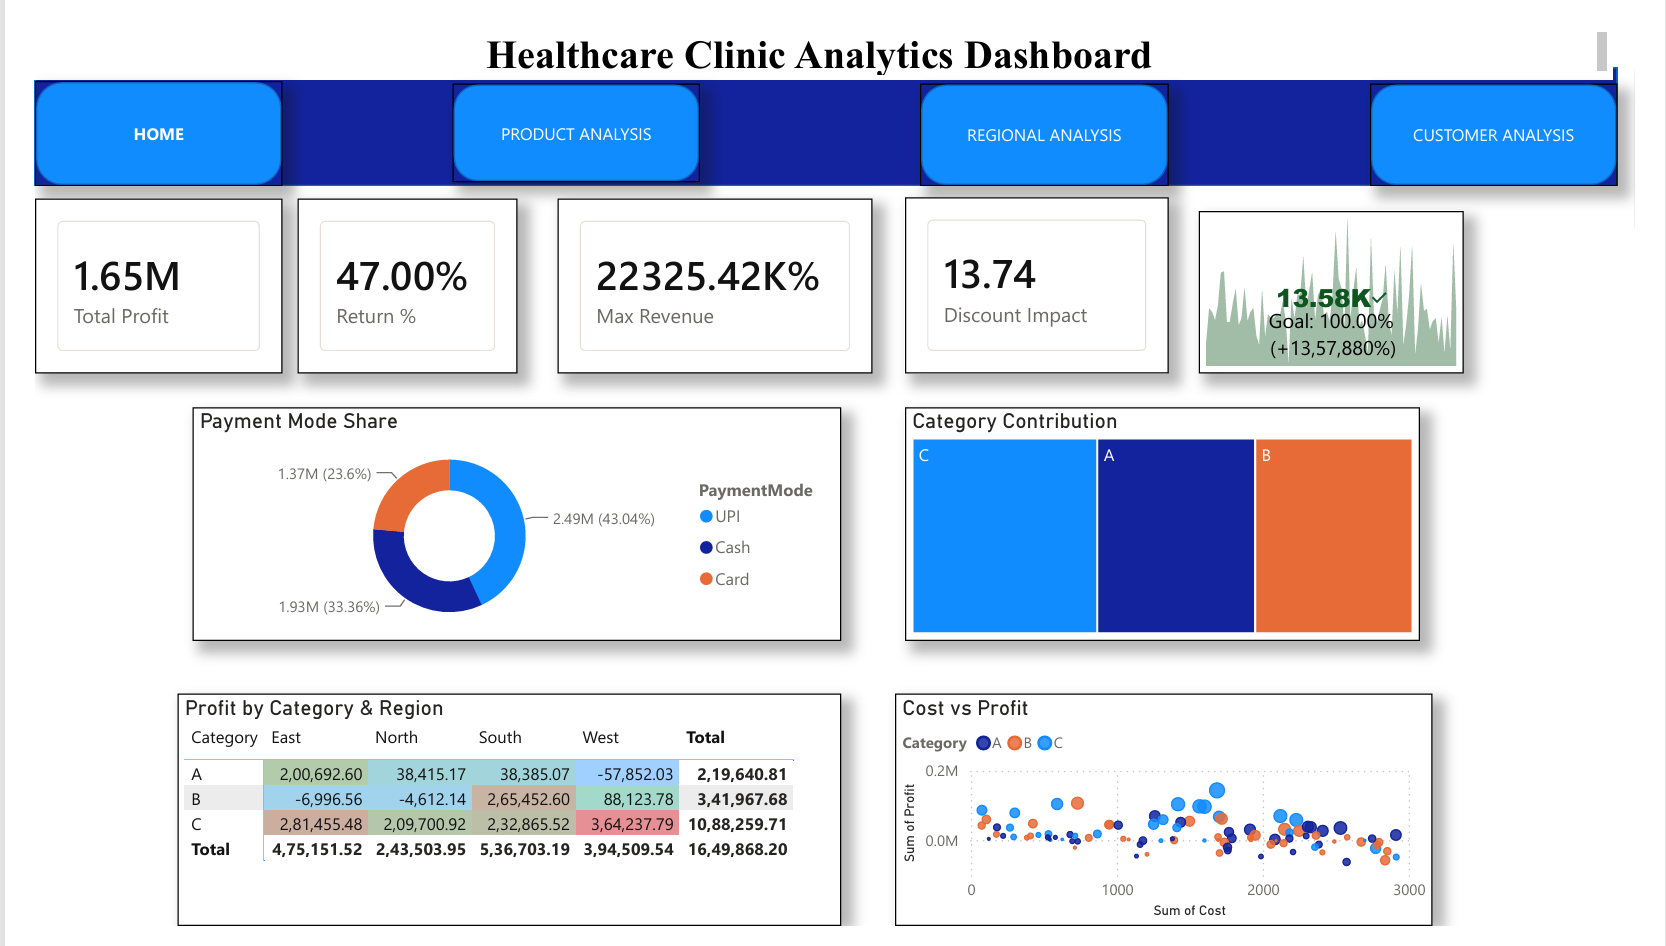

This screenshot's page, from the dashboard's own definition file:
{"tool":"powerbi","page":{"name":"Page 1","canvas":[1280,720],"ordinal":0},"visuals":[{"type":"shape","box":[0,32.8,1265.7,95.5],"z":0},{"type":"textbox","box":[0,0,1262.9,44.2],"z":1000},{"type":"shape","box":[333.5,45.6,198.1,79.8],"z":2000},{"type":"shape","box":[0,44.2,198.1,84.1],"z":3000},{"type":"shape","box":[1067.6,45.6,198.1,82.7],"z":4000},{"type":"shape","box":[708.4,45.6,198.1,82.7],"z":5000},{"type":"cardVisual","fields":{"Data":["clinic.Msr_total_profit"]},"box":[0,138.3,198.1,139.7],"z":6000},{"type":"kpi","fields":{"Goal":["clinic.Return %"],"TrendLine":["clinic.Date"],"Indicator":["clinic.Total Profit"]},"box":[930.8,148.2,212.4,129.7],"z":7000},{"type":"cardVisual","fields":{"Data":["clinic.Msr_Return %"]},"box":[209.5,138.3,176.7,139.7],"z":8000},{"type":"cardVisual","fields":{"Data":["clinic.Msr_revenue"]},"box":[417.6,138.3,252.3,139.7],"z":9000},{"type":"cardVisual","fields":{"Data":["clinic.Msr_Discount"]},"box":[695.6,136.8,211,141.1],"z":10000},{"type":"treemap","title":"Category Contribution","fields":{"Group":["clinic.Category"],"Values":["Sum(clinic.Revenue)"]},"box":[696.2,304.7,411.9,187.2],"z":11000},{"type":"scatterChart","title":"Cost vs Profit","fields":{"X":["Sum(clinic.Cost)"],"Series":["clinic.Category"],"Size":["Sum(clinic.Revenue)"],"Category":["clinic.ID"],"Y":["Sum(clinic.Profit)"]},"box":[687.7,534.5,430.6,185.5],"z":12000},{"type":"pivotTable","title":"Profit by Category & Region","fields":{"Rows":["clinic.Category"],"Columns":["clinic.Region"],"Values":["clinic.Msr_total_profit"]},"box":[114,534.5,531.1,185.5],"z":13000},{"type":"donutChart","title":"Payment Mode Share","fields":{"Category":["clinic.PaymentMode"],"Y":["Sum(clinic.Revenue)"]},"box":[126,304.7,519.1,187.2],"z":14000}]}

Visuals, with their boxes in screenshot pixels (x1, y1, x2, y2), scaled from the page's 1280x720 canvas onto the 1666x946 screenshot:
shape: left=0, top=43, right=1647, bottom=169
textbox: left=0, top=0, right=1644, bottom=58
shape: left=434, top=60, right=692, bottom=165
shape: left=0, top=58, right=258, bottom=169
shape: left=1390, top=60, right=1647, bottom=169
shape: left=922, top=60, right=1180, bottom=169
cardVisual - clinic.Msr_total_profit: left=0, top=182, right=258, bottom=365
kpi - clinic.Return % x clinic.Date: left=1211, top=195, right=1488, bottom=365
cardVisual - clinic.Msr_Return %: left=273, top=182, right=503, bottom=365
cardVisual - clinic.Msr_revenue: left=544, top=182, right=872, bottom=365
cardVisual - clinic.Msr_Discount: left=905, top=180, right=1180, bottom=365
"Category Contribution" treemap: left=906, top=400, right=1442, bottom=646
"Cost vs Profit" scatterChart: left=895, top=702, right=1456, bottom=945
"Profit by Category & Region" pivotTable: left=148, top=702, right=840, bottom=945
"Payment Mode Share" donutChart: left=164, top=400, right=840, bottom=646
